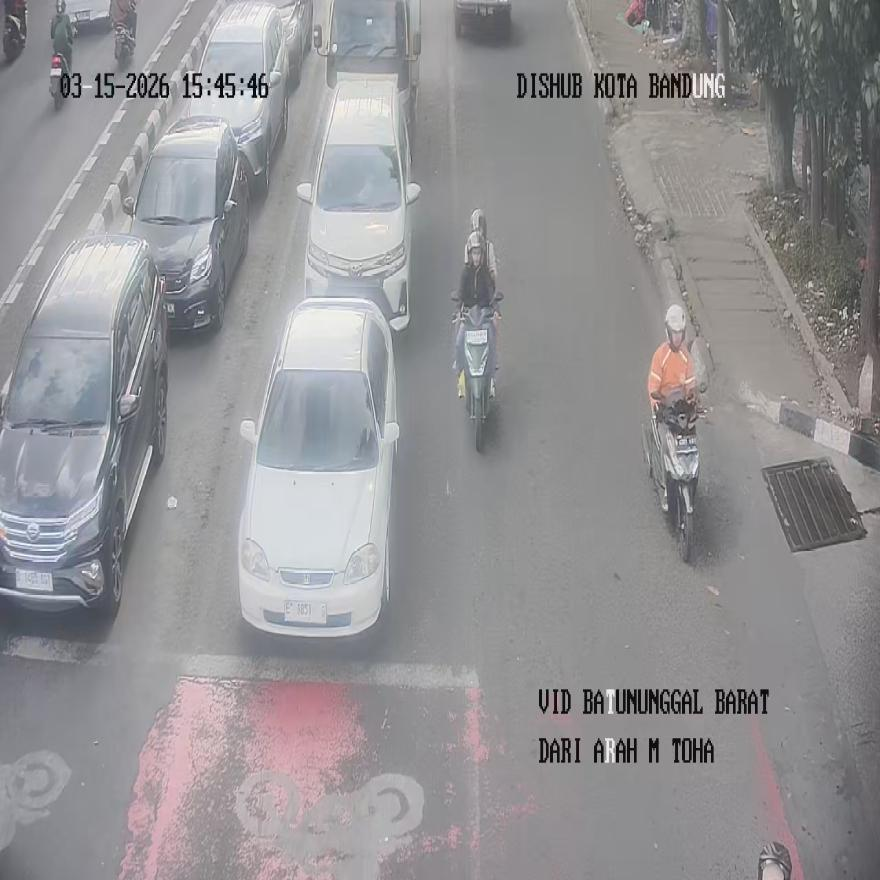Mobil: (0, 234, 168, 614), (236, 297, 398, 638), (297, 75, 420, 331), (122, 116, 249, 331), (182, 1, 287, 199), (314, 0, 421, 137)
Motor: (644, 386, 699, 562), (452, 292, 500, 452), (2, 0, 27, 62), (49, 51, 71, 110), (114, 15, 136, 72)
